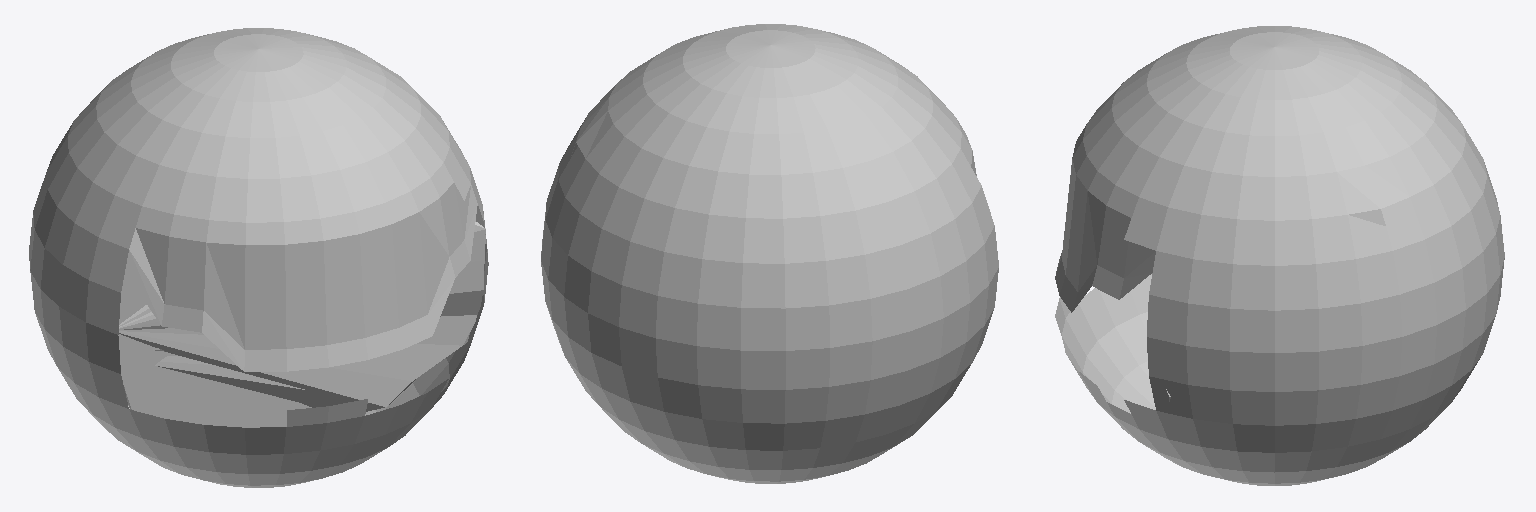
The model's file is Crazy.obj.
3 renders of one model, left to right at view 1: azimuth 30°, elevation 25°; view 2: azimuth 150°, elevation 25°; view 3: azimuth 270°, elevation 25°, orthographic.
Parts seen in each view (by area): view 1: Sphere, Cylinder, Sphere.001; view 2: Sphere.001, Sphere; view 3: Sphere, Sphere.001.
Part boxes in pixels (bbox=[...]): Sphere: bbox=[29, 28, 477, 487]; Cylinder: bbox=[118, 222, 485, 427]; Sphere.001: bbox=[29, 28, 488, 487]; Sphere.001: bbox=[541, 54, 998, 483]; Sphere: bbox=[558, 24, 988, 483]; Sphere: bbox=[1055, 26, 1461, 485]; Sphere.001: bbox=[1117, 48, 1504, 483].
Bounding box in the file's own units: 2 × 2 × 1.95.